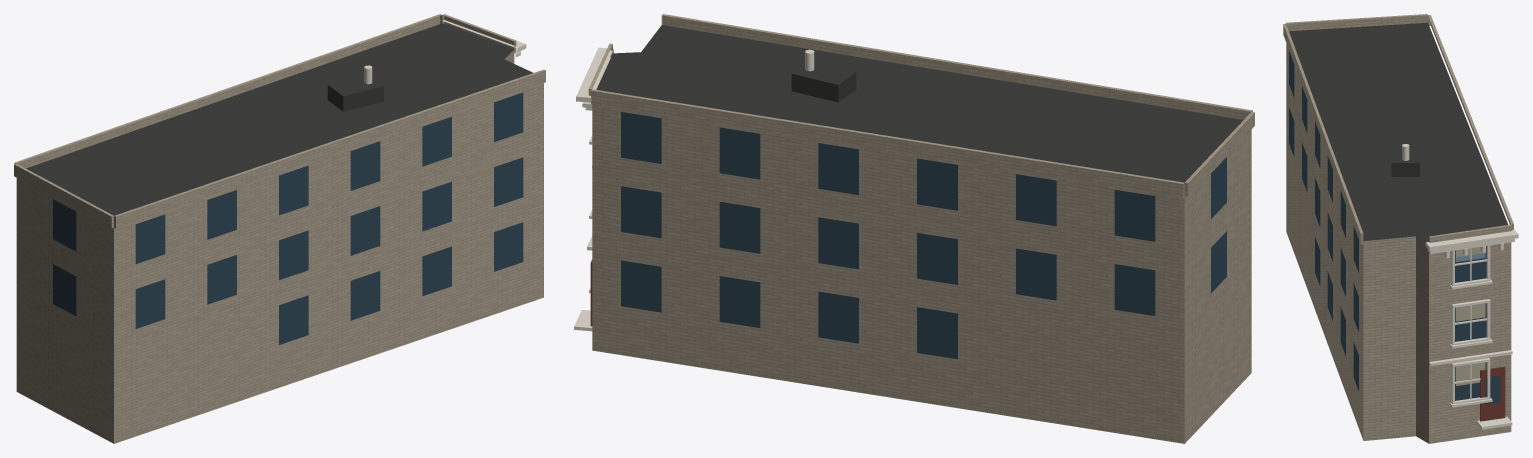
The picture shows the model from 3 angles, left to right: view 1: azimuth 30°, elevation 25°; view 2: azimuth 150°, elevation 25°; view 3: azimuth 270°, elevation 25°; orthographic projection. The views are drawn at different scales.
Parts seen in each view (by area): view 1: Footprint 0 / surface 2, Footprint 0 / surface 1, Inset glazing, Facade bay volumes, Inferred rooftop service enclosure / surface 5, Inferred rooftop service enclosure / surface 3; view 2: Footprint 0 / surface 2, Footprint 0 / surface 1, Inset glazing, Facade bay volumes, Cornices and window frames, Inferred rooftop service enclosure / surface 6, Inferred rooftop service enclosure / surface 3; view 3: Footprint 0 / surface 2, Footprint 0 / surface 1, Inset glazing, Facade bay volumes, Cornices and window frames, Interior blind variation, Storefronts and doors, Inferred rooftop service enclosure / surface 3, Inferred rooftop service enclosure / surface 1, Sky reflection panels.
Boxes of the visible parts, x1,y1,x2,y2 form: Footprint 0 / surface 2: (16, 50, 543, 443); Footprint 0 / surface 1: (26, 23, 532, 215); Inset glazing: (53, 92, 523, 344); Facade bay volumes: (14, 14, 545, 228); Inferred rooftop service enclosure / surface 5: (343, 86, 383, 111); Inferred rooftop service enclosure / surface 3: (328, 76, 383, 96); Footprint 0 / surface 2: (592, 104, 1251, 443); Footprint 0 / surface 1: (596, 25, 1243, 182); Inset glazing: (621, 112, 1226, 359); Facade bay volumes: (588, 14, 1254, 197); Cornices and window frames: (574, 47, 613, 331); Inferred rooftop service enclosure / surface 6: (791, 74, 838, 102); Inferred rooftop service enclosure / surface 3: (792, 61, 855, 84); Footprint 0 / surface 2: (1286, 43, 1511, 443); Footprint 0 / surface 1: (1289, 22, 1508, 242); Inset glazing: (1289, 51, 1500, 404); Facade bay volumes: (1283, 14, 1513, 244); Cornices and window frames: (1425, 229, 1518, 429); Interior blind variation: (1456, 247, 1485, 385); Storefronts and doors: (1480, 366, 1505, 421); Inferred rooftop service enclosure / surface 3: (1391, 145, 1419, 162); Inferred rooftop service enclosure / surface 1: (1391, 163, 1419, 176); Sky reflection panels: (1455, 250, 1485, 379).
Bounding box in the file's own units: 22.67 × 10.58 × 9.89.
